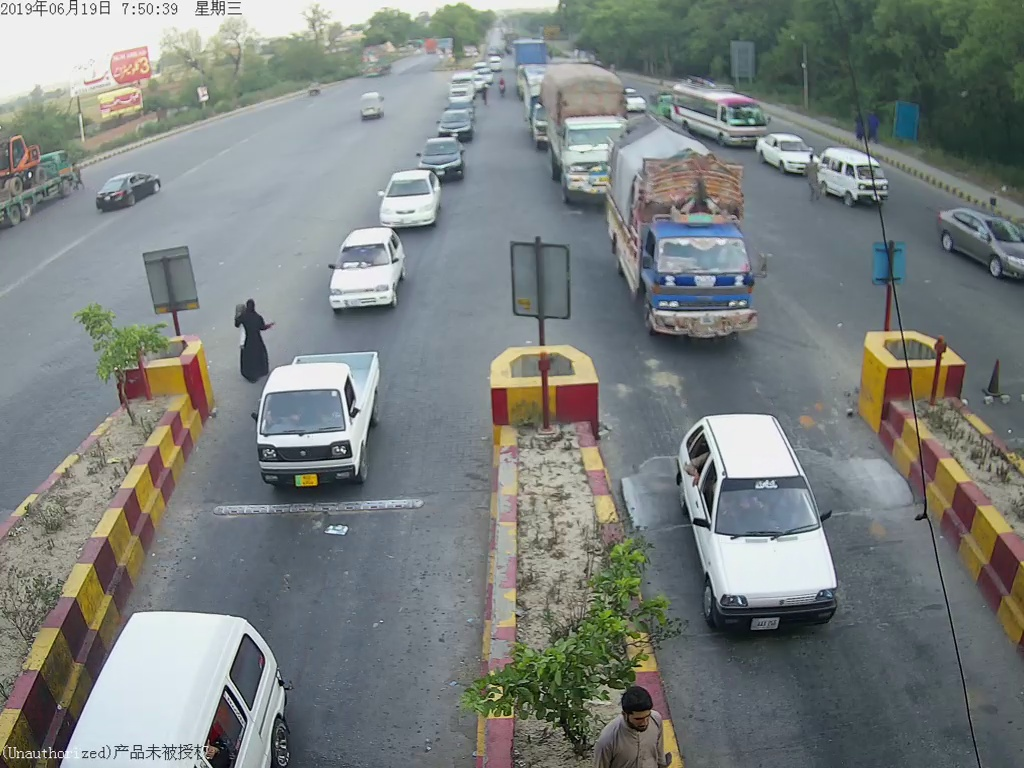Cat-1: (674, 404, 844, 627), (250, 341, 390, 497), (324, 224, 407, 313), (373, 168, 441, 230), (417, 130, 468, 186)
Cat-2: (611, 112, 772, 338)
Cat-4: (545, 54, 628, 202)
